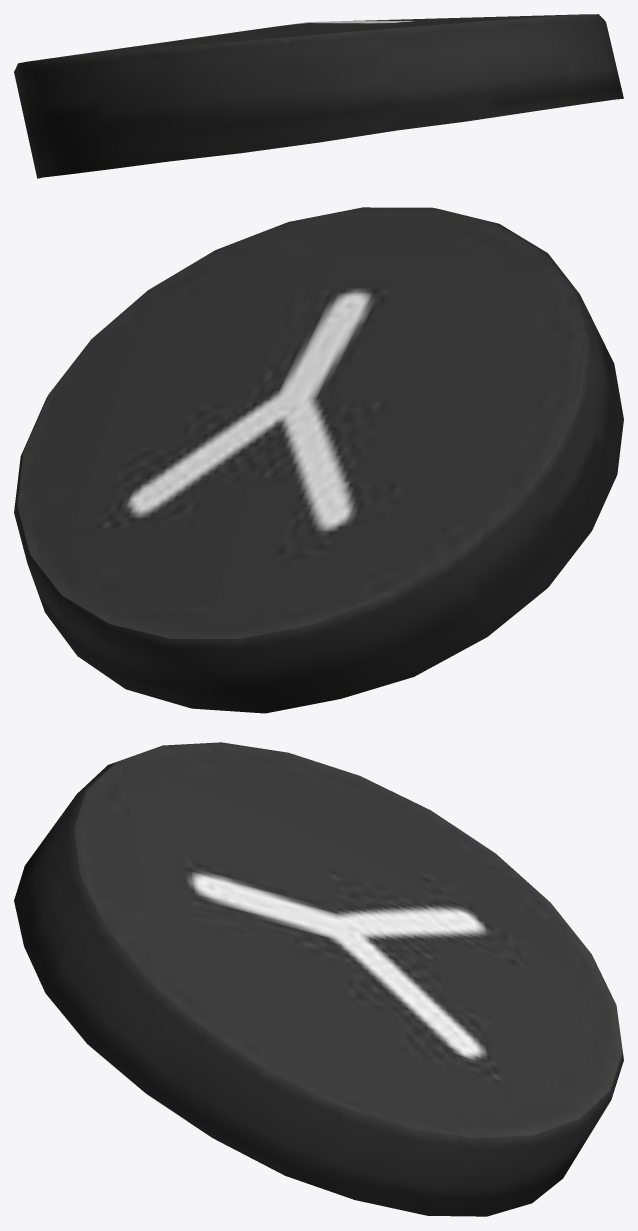
The picture shows the model from 3 angles, top to bottom: view 1: azimuth 30°, elevation 25°; view 2: azimuth 150°, elevation 25°; view 3: azimuth 270°, elevation 25°; orthographic projection. The views are drawn at different scales.
Size of the model in its own units: 0.0108 by 0.00628 by 0.0107.
Materials: 1 (1 with a texture image).
